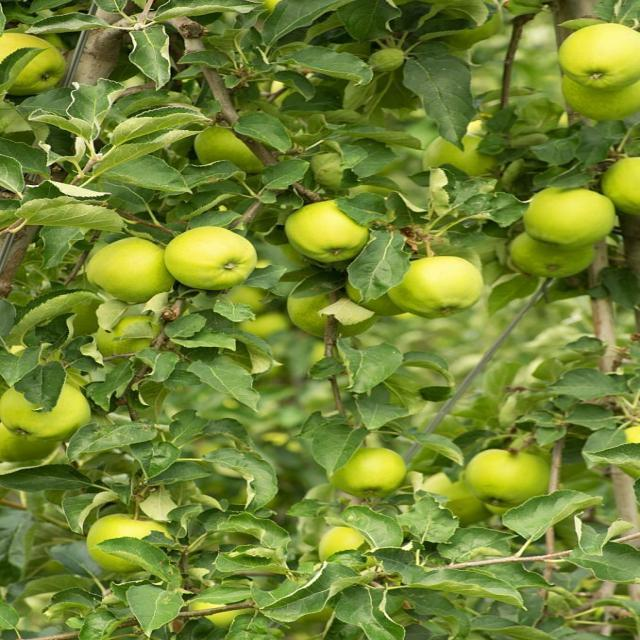Green Apple: (528, 181, 623, 250), (291, 280, 388, 338), (92, 236, 181, 297), (396, 259, 483, 321), (555, 24, 640, 84), (174, 226, 259, 286), (429, 131, 518, 188), (288, 202, 373, 261), (93, 514, 181, 569), (3, 383, 90, 436), (507, 232, 601, 281), (472, 449, 550, 503), (201, 123, 277, 177), (1, 30, 66, 92), (423, 468, 498, 521), (563, 70, 640, 120), (335, 446, 403, 493), (1, 422, 66, 464), (345, 278, 420, 312), (193, 593, 254, 634), (105, 316, 161, 358), (326, 526, 382, 566), (597, 158, 640, 203)
